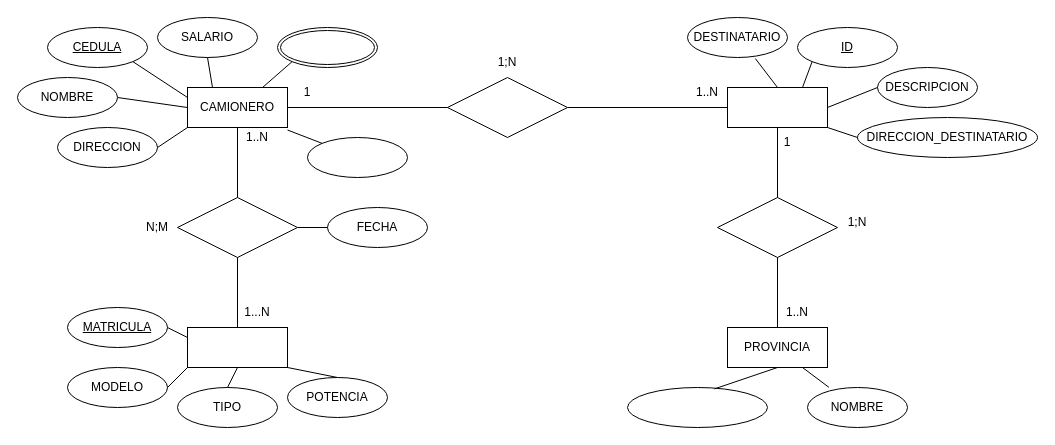
Some shapes in this 1055 by 445 pixel diagram are drawn without their labels. The centre of each missing label's shape, as x and y in pixels:
"CAMION" belongs at (x=237, y=347).
"CODIGO_PROVINCIA" belongs at (x=697, y=407).
"CONDUCE" belongs at (x=237, y=227).
"DESTINO" belongs at (x=777, y=227).
"DISTRIBUYE" belongs at (x=507, y=107).
"PAQUETE" belongs at (x=777, y=107).
"POBLACION" belongs at (x=327, y=47).
"TELEFONO" belongs at (x=357, y=157).
